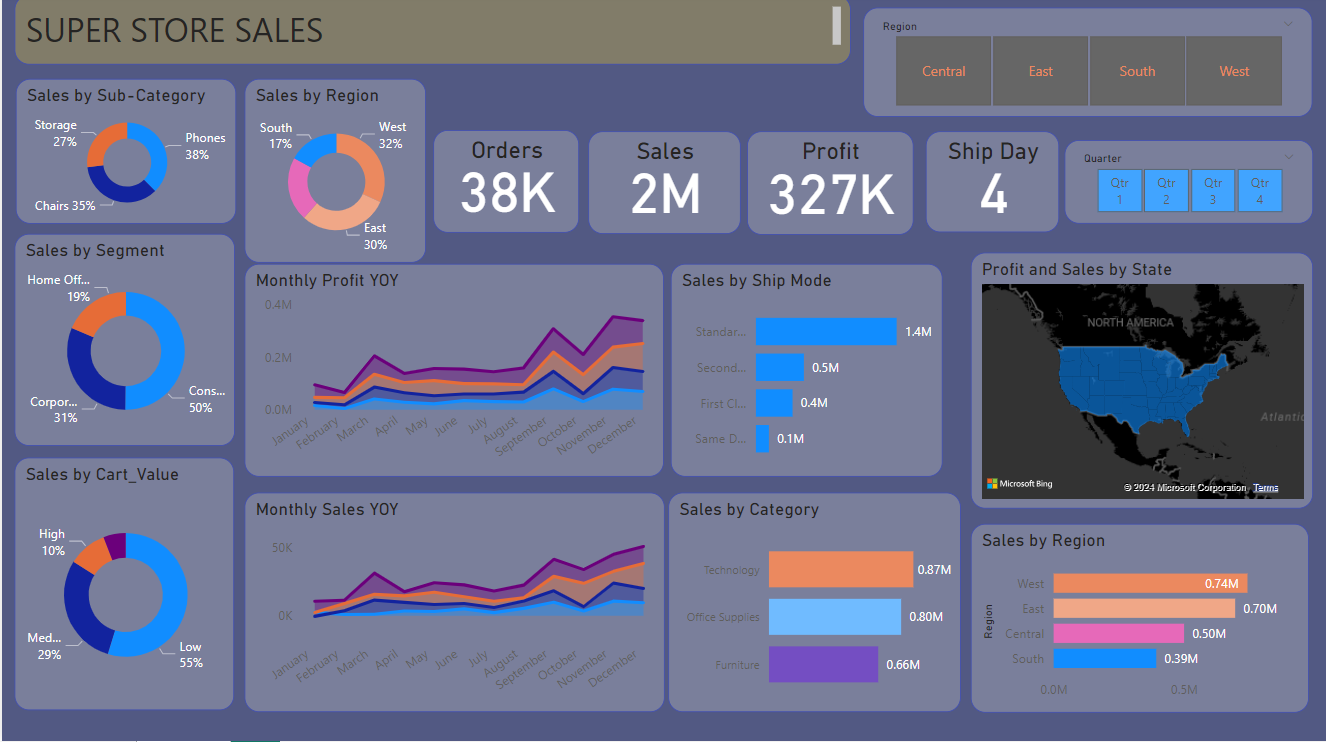

The page's visual inventory and layout, read from the dashboard file:
{"tool":"powerbi","page":{"name":"Page 1","canvas":[1280,720],"ordinal":0},"visuals":[{"type":"clusteredBarChart","fields":{"Category":["Orders.Category"],"Y":["Orders.Sales"]},"box":[643,480.2,282.3,212.3],"z":0},{"type":"donutChart","fields":{"Category":["Orders.Sub-Category"],"Y":["Orders.Sales"]},"box":[13.7,81,212.7,140],"z":1000},{"type":"clusteredBarChart","fields":{"Category":["Orders.Ship Mode"],"Y":["Orders.Sales"]},"box":[644.9,259.3,262.1,205.8],"z":2000},{"type":"stackedAreaChart","title":"Monthly Sales YOY","fields":{"Category":["Orders.Order Date.Variation.Date Hierarchy.Month"],"Y":["Orders.Profit"],"Series":["Orders.Order Date.Variation.Date Hierarchy.Year"]},"box":[234,480.2,405.4,212.3],"z":3000},{"type":"stackedAreaChart","title":" Monthly Profit YOY","fields":{"Category":["Orders.Order Date.Variation.Date Hierarchy.Month"],"Series":["Orders.Order Date.Variation.Date Hierarchy.Year"],"Y":["Orders.Sales"]},"box":[234.6,259.3,404.8,205.8],"z":4000},{"type":"donutChart","fields":{"Category":["Orders.Cart_Value"],"Y":["Orders.Sales"]},"box":[12.1,446.4,212.3,243.7],"z":5000},{"type":"donutChart","fields":{"Category":["Orders.Region"],"Y":["Orders.Sales"]},"box":[245.6,71.4,175.6,177],"z":6000},{"type":"donutChart","fields":{"Category":["Orders.Segment"],"Y":["Orders.Sales"]},"box":[12.3,230.5,212.7,204.5],"z":7000},{"type":"clusteredBarChart","fields":{"Category":["Orders.Region"],"Y":["Orders.Sales"]},"box":[934.5,510.5,326.6,182.5],"z":8000},{"type":"card","title":"Orders","fields":{"Values":["Sum(Orders.Quantity)"]},"box":[436.7,130.3,130.3,98.9],"z":9000},{"type":"filledMap","fields":{"Category":["Orders.State"]},"box":[934.5,248.4,330.7,247],"z":10000},{"type":"slicer","fields":{"Values":["Orders.Region"]},"box":[831.6,12.3,433.6,105.7],"z":11000},{"type":"textbox","box":[12.3,0,806.9,67.2],"z":12000},{"type":"card","title":"Sales","fields":{"Values":["Orders.Sales"]},"box":[582.7,130.3,108.6,98.9],"z":13000},{"type":"card","title":"Profit","fields":{"Values":["Orders.Profit"]},"box":[704.6,130.3,160.5,100.1],"z":14000},{"type":"card","title":"Ship Day","fields":{"Values":["Avg(Orders.DeliveryDay)"]},"box":[877.1,130.3,129.1,100.1],"z":15000},{"type":"slicer","fields":{"Values":["Orders.Order Date.Variation.Date Hierarchy.Quarter"]},"box":[1020.9,140,240.1,81],"z":16000}]}

Visuals, with their boxes in screenshot pixels (x1, y1, x2, y2), scaled from the page's 1280x720 canvas onto the 1326x742 screenshot:
clusteredBarChart - Orders.Category x Orders.Sales: 666,495,959,714
donutChart - Orders.Sub-Category x Orders.Sales: 14,83,235,228
clusteredBarChart - Orders.Ship Mode x Orders.Sales: 668,267,940,479
"Monthly Sales YOY" stackedAreaChart: 242,495,662,714
" Monthly Profit YOY" stackedAreaChart: 243,267,662,479
donutChart - Orders.Cart_Value x Orders.Sales: 13,460,232,711
donutChart - Orders.Region x Orders.Sales: 254,74,436,256
donutChart - Orders.Segment x Orders.Sales: 13,238,233,448
clusteredBarChart - Orders.Region x Orders.Sales: 968,526,1306,714
"Orders" card: 452,134,587,236
filledMap - Orders.State: 968,256,1311,511
slicer - Orders.Region: 861,13,1311,122
textbox: 13,0,849,69
"Sales" card: 604,134,716,236
"Profit" card: 730,134,896,237
"Ship Day" card: 909,134,1042,237
slicer - Orders.Order Date.Variation.Date Hierarchy.Quarter: 1058,144,1306,228
